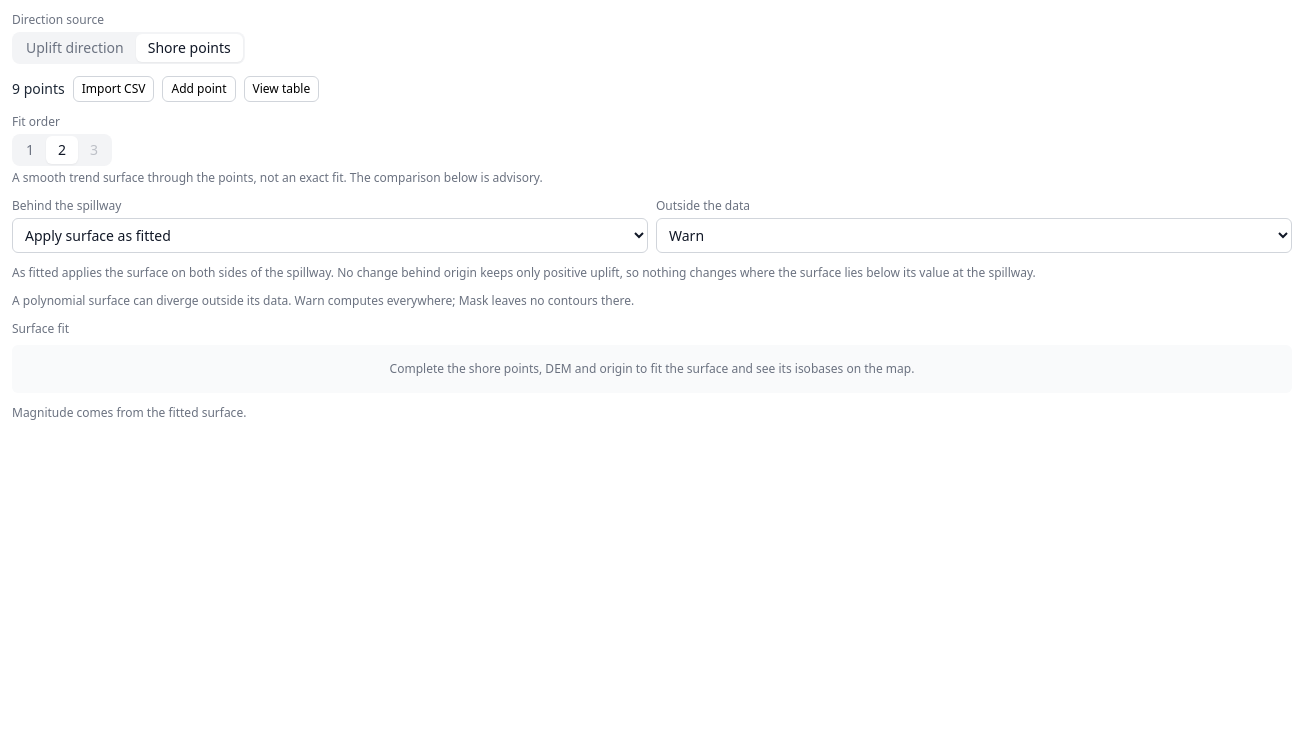
Test case: the points table › is behind a "View table" disclosure and lists site, lat, lon, elevation and residual
Click the button "View table" at point(281, 89), box [244, 76, 319, 102]
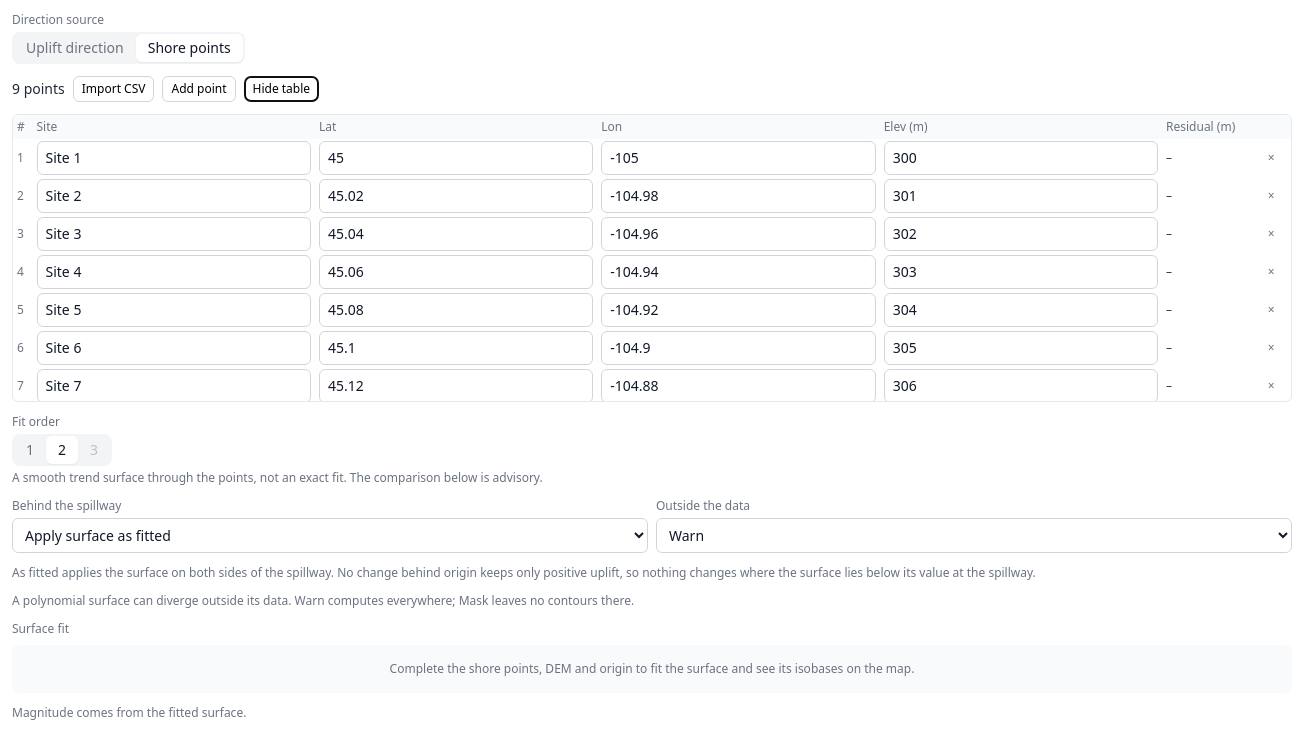
Now the button "Hide table" is expanded, box [244, 76, 319, 102]
Now the field named "Point 2 site" holds "Site 2", box [36, 179, 311, 213]
Now the field named "Point 2 latitude" holds "45.02", box [319, 179, 593, 213]
